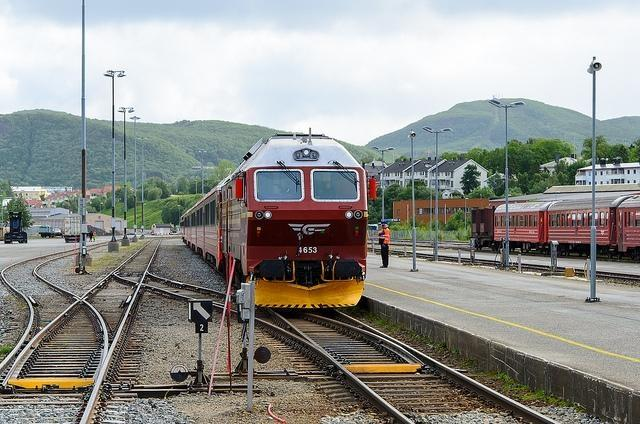truck: (64, 214, 81, 242), (38, 225, 54, 239)
